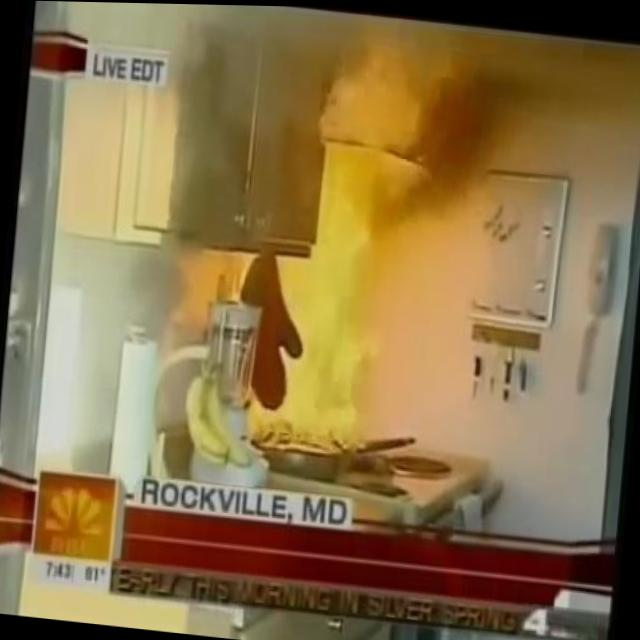fire: (248, 179, 398, 461)
